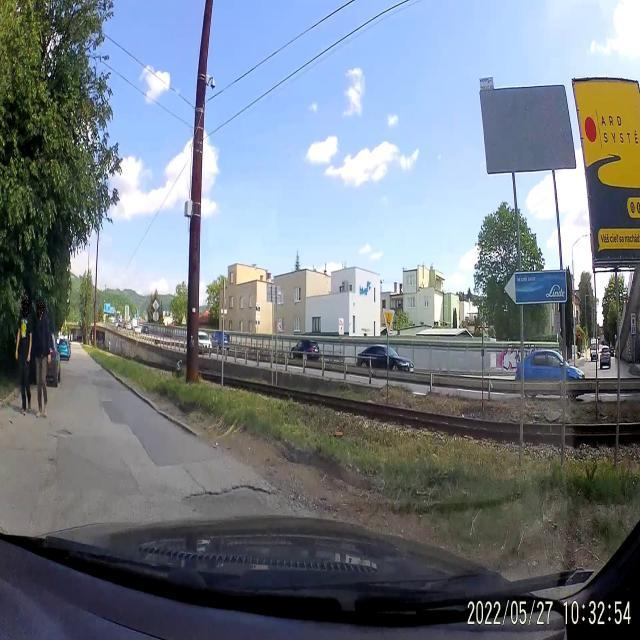Pothole: (178, 484, 272, 514), (56, 424, 72, 441), (46, 456, 57, 468), (102, 400, 112, 402)
